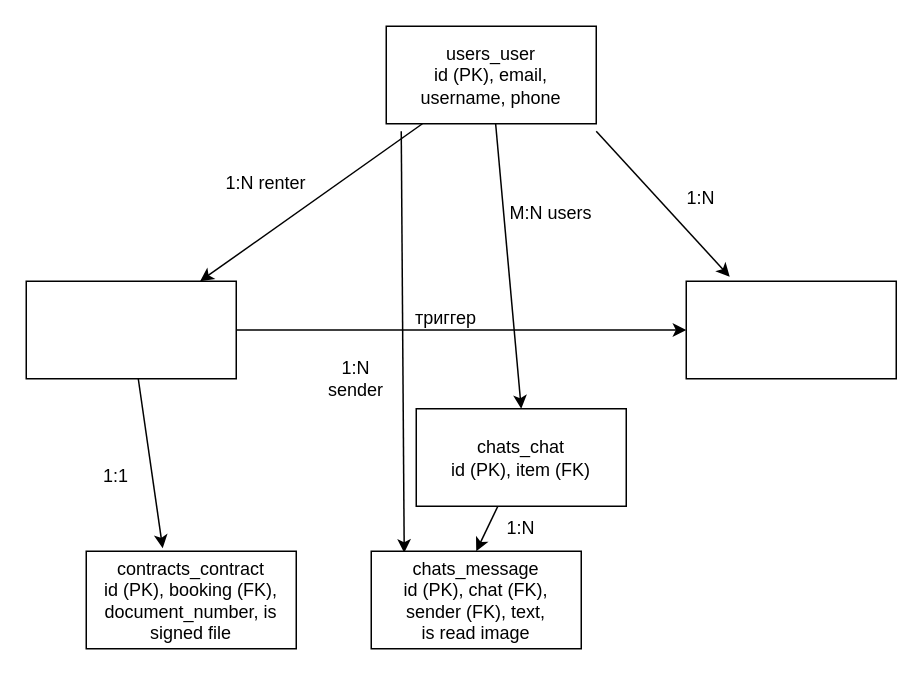
Some shapes in this 923 by 675 pixel diagram are drawn without their labels. The shapes that lost their labels are listed below. From the top down, each one's centre as x and y in pixels, then its label:
At point 130,329: "bookings_booking id (PK), renter (FK), item (FK), status, start_date, end_date".
At point 790,329: "notifications id (PK), user (FK), type, message, is_read, metadata".
